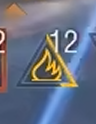1fire: (16, 55, 79, 88)
